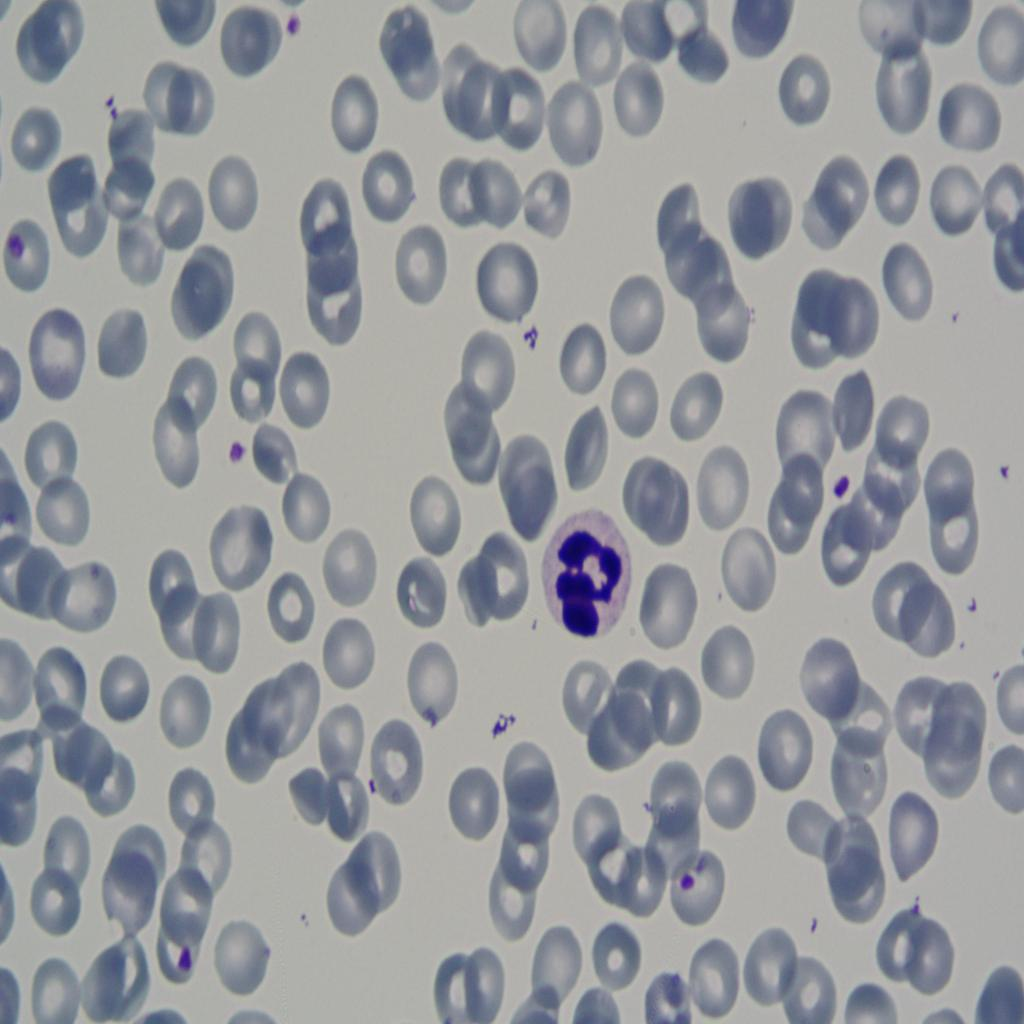Neutrofil: (527, 491, 627, 643)
Platelet: (214, 420, 267, 485), (819, 466, 867, 526), (0, 207, 35, 265), (674, 862, 704, 921), (988, 447, 1015, 504), (276, 14, 308, 48)
